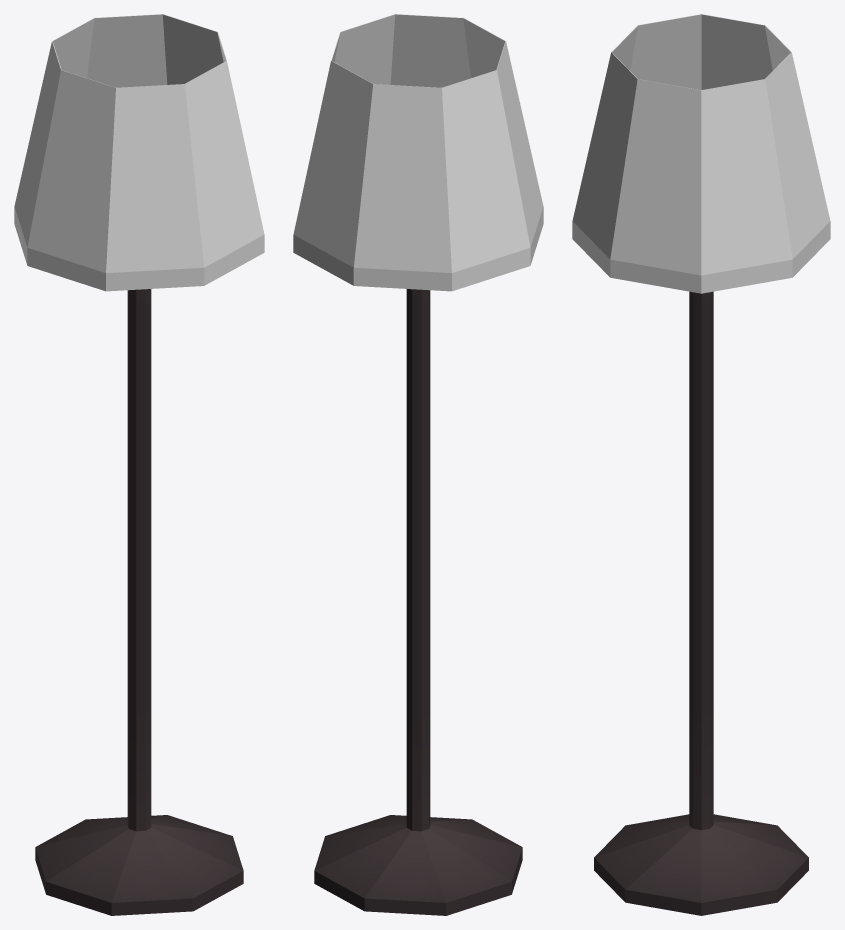
The model's file is [PSX] Lamp Model.fbx.
The picture shows the model from 3 angles, left to right: view 1: azimuth 30°, elevation 25°; view 2: azimuth 150°, elevation 25°; view 3: azimuth 270°, elevation 25°; orthographic projection.
Visible parts, largest first — view 1: Lamp; view 2: Lamp; view 3: Lamp.
Boxes of the visible parts, x1=… form: Lamp: x1=14, y1=14, x2=264, y2=915; Lamp: x1=293, y1=14, x2=543, y2=915; Lamp: x1=572, y1=14, x2=830, y2=915.
Bounding box in the file's own units: 36 × 126 × 36.
Materials: 2 (1 with a texture image).
